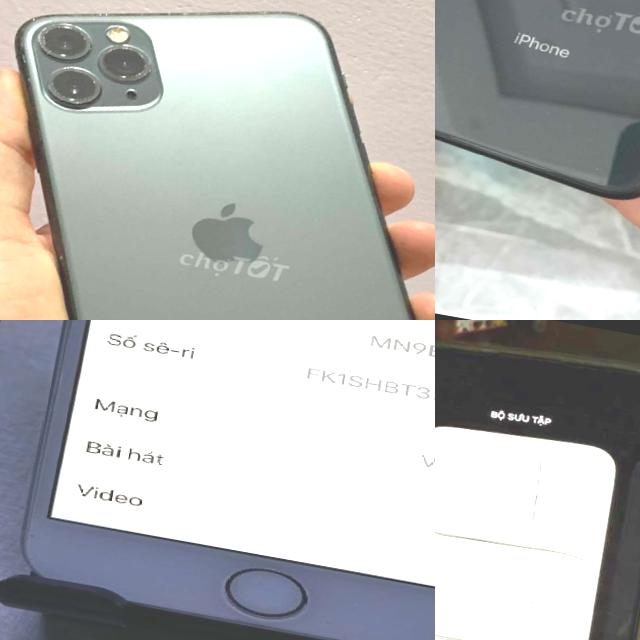gen_11: (0, 0, 435, 320)
gen_17: (435, 320, 640, 640)
gen_7_8: (0, 320, 435, 640)
gen_x_xs: (435, 0, 640, 197)
